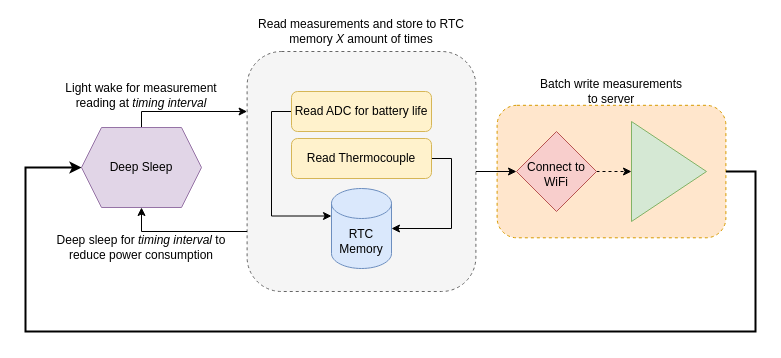
Image size: 781x358. Some labels were removed from this diagram. Each missing label, with the box of its shape:
Modem Off: (246, 50, 476, 292)
Modem On: (496, 104, 726, 238)
Push to Server: (630, 120, 706, 222)
